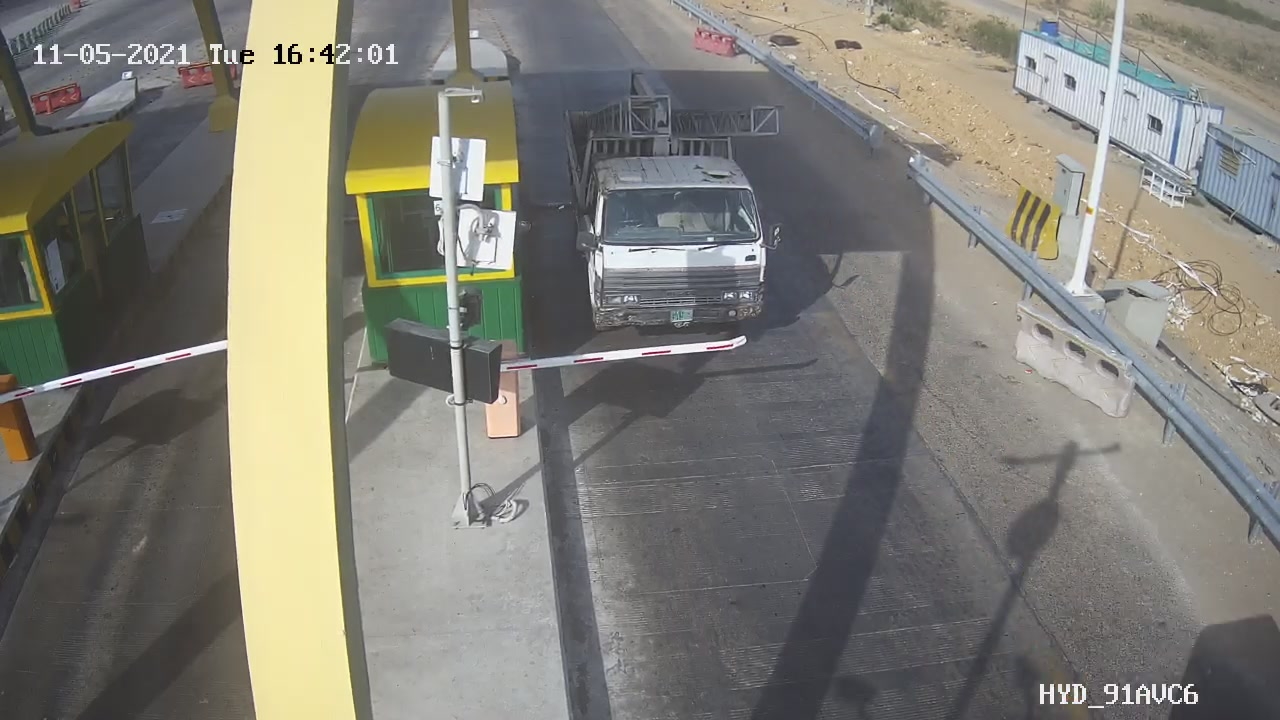F3: (539, 59, 803, 346)
